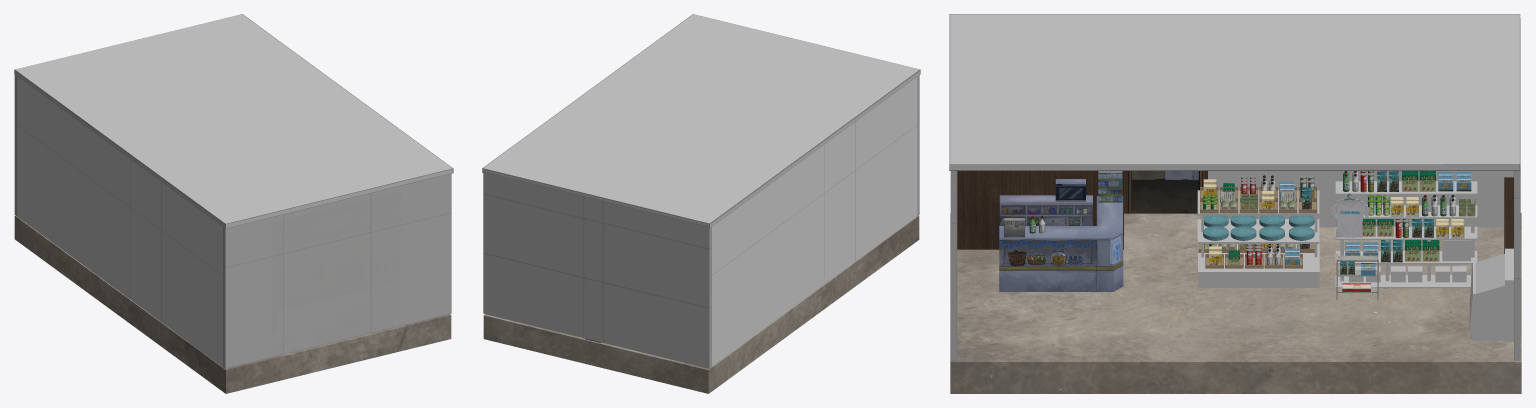
File: convenience store03.fbx
The picture shows the model from 3 angles, left to right: view 1: azimuth 30°, elevation 25°; view 2: azimuth 150°, elevation 25°; view 3: azimuth 270°, elevation 25°; orthographic projection. The views are drawn at different scales.
Visible parts, largest first — view 1: Cube.122, Cube.109, Cube.108, Cube.096, Cube.110; view 2: Cube.122, Cube.110, Cube.108, Cube.096, Cube.109; view 3: Cube.122, Cube.096, Cube.075, Cube.061, Cube.074, Cube.095, Cube.108, Cube.083, Cube.037, Cube.109, Cube.110, Cube.019 (+12 smaller).
Boxes of the visible parts, box(x1,y1,x2,y2) form: Cube.122: box(14, 14, 453, 228); Cube.109: box(223, 173, 451, 368); Cube.108: box(17, 76, 222, 366); Cube.096: box(14, 215, 451, 393); Cube.110: box(14, 75, 17, 216); Cube.122: box(482, 14, 920, 227); Cube.110: box(483, 171, 711, 368); Cube.108: box(712, 77, 917, 366); Cube.096: box(483, 216, 919, 393); Cube.109: box(917, 75, 919, 216); Cube.122: box(949, 14, 1520, 170); Cube.096: box(950, 213, 1521, 393); Cube.075: box(999, 196, 1123, 291); Cube.061: box(957, 171, 1123, 249); Cube.074: box(1208, 171, 1504, 227); Cube.095: box(1469, 248, 1513, 340); Cube.108: box(1124, 171, 1207, 213); Cube.083: box(999, 195, 1092, 225); Cube.037: box(1198, 274, 1319, 287); Cube.109: box(950, 171, 957, 360); Cube.110: box(1514, 18, 1520, 360); Cube.019: box(1198, 240, 1319, 274).
Bounding box in the file's own units: 270 × 193 × 434.
